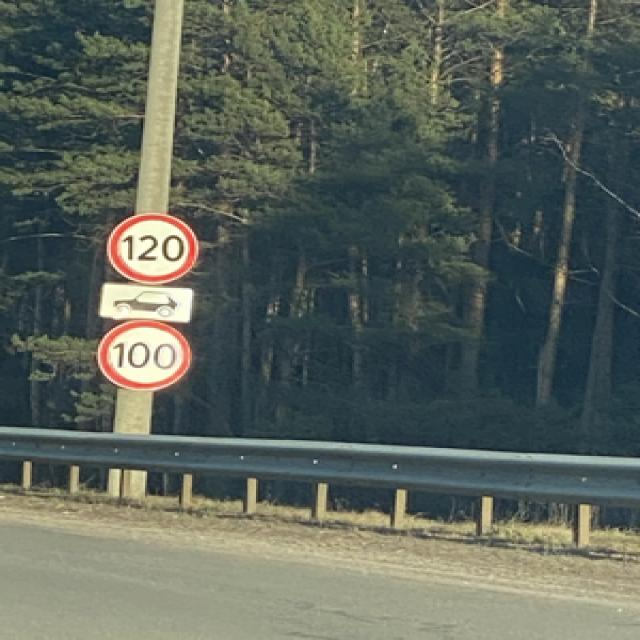speedlimit: (105, 211, 196, 282), (94, 320, 185, 389)
